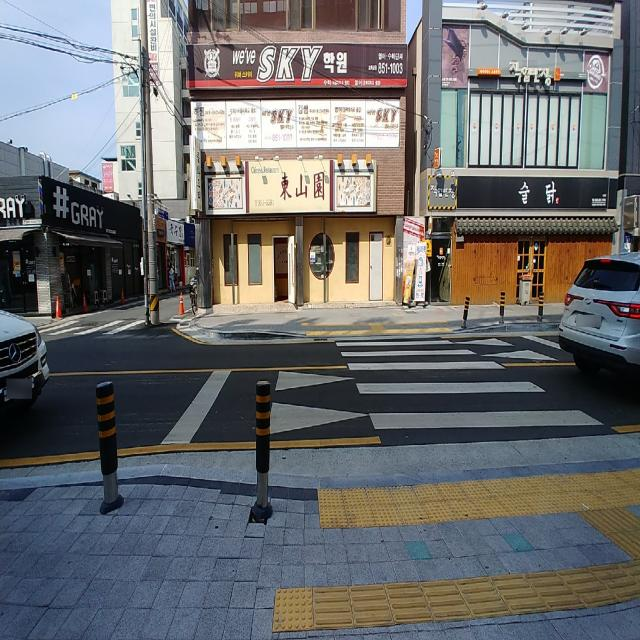횡단보도: (336, 340, 604, 430)
